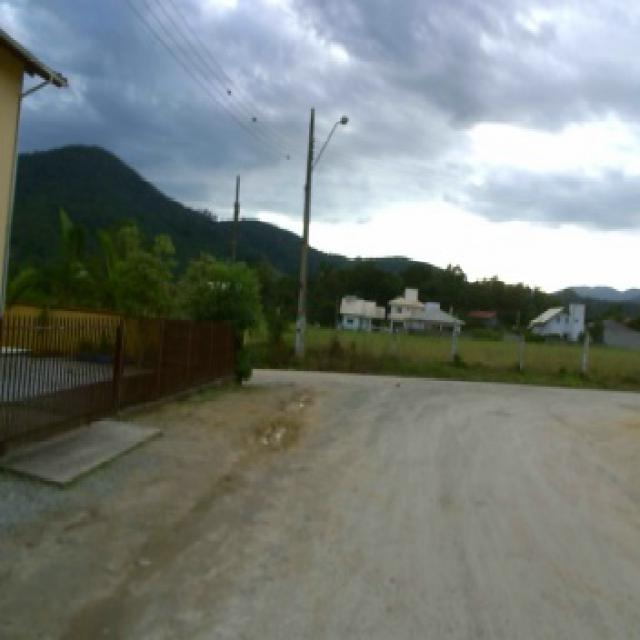Poth-hole: (258, 386, 313, 444)
